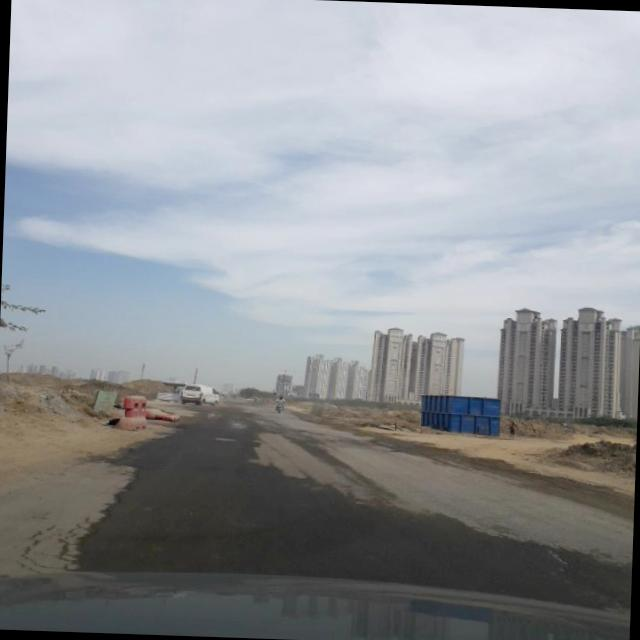crack: (1, 512, 85, 573)
pothole: (74, 454, 138, 560)
